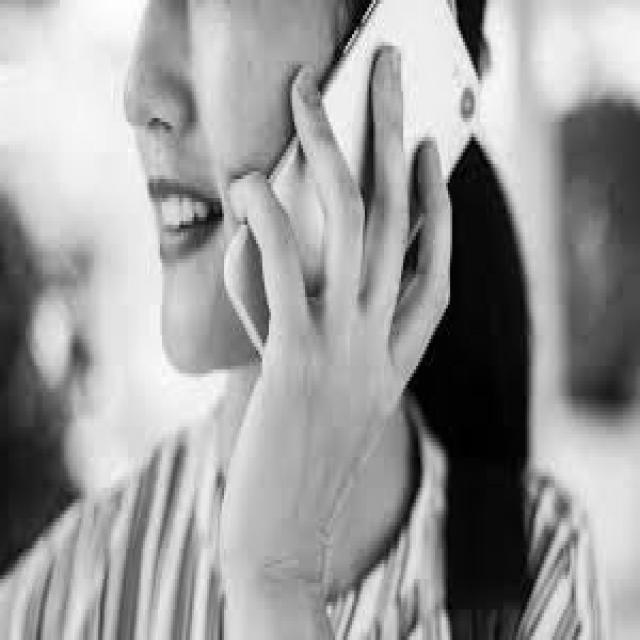phone: (207, 0, 495, 476)
